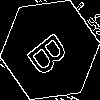B: (25, 24, 78, 79)
